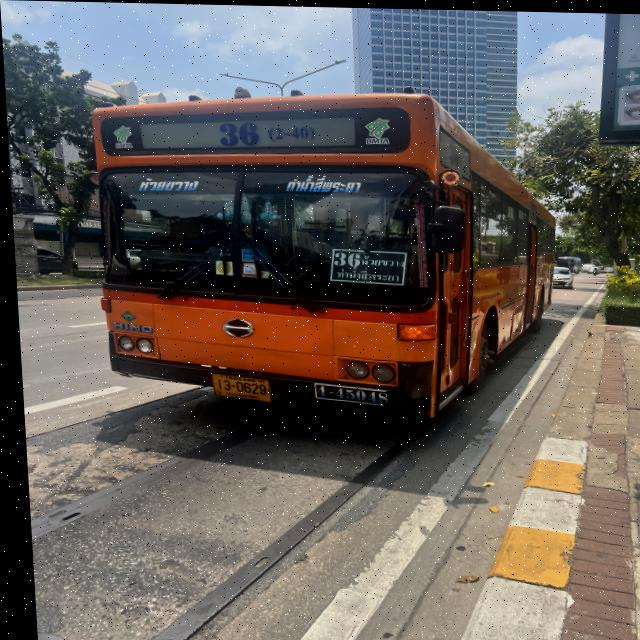BMTA-bus: (86, 85, 563, 422)
Bus-Line-Number: (213, 117, 322, 149)
Destination-Sign-Normal: (322, 246, 406, 286)
